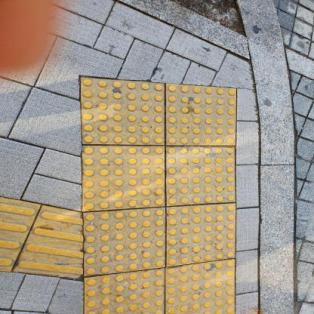Podoctatil: (0, 70, 245, 313)
